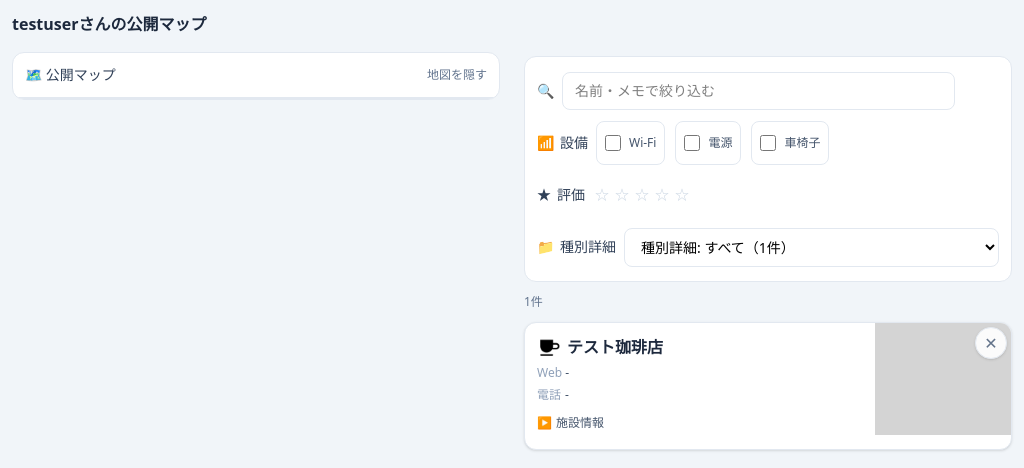
it: ピースG2: フィルタ・メモ帳追加 › 登録済みの施設は「メモ帳から削除」表示で、タップで削除される（検索結果と同じ扱い）
This screenshot has width=1024, height=468.
// タップするとごみ箱へ移動し、ボタンが「メモ帳に追加」に戻る
Click the button named "メモ帳から削除": (991, 343) [975,327,1007,359]
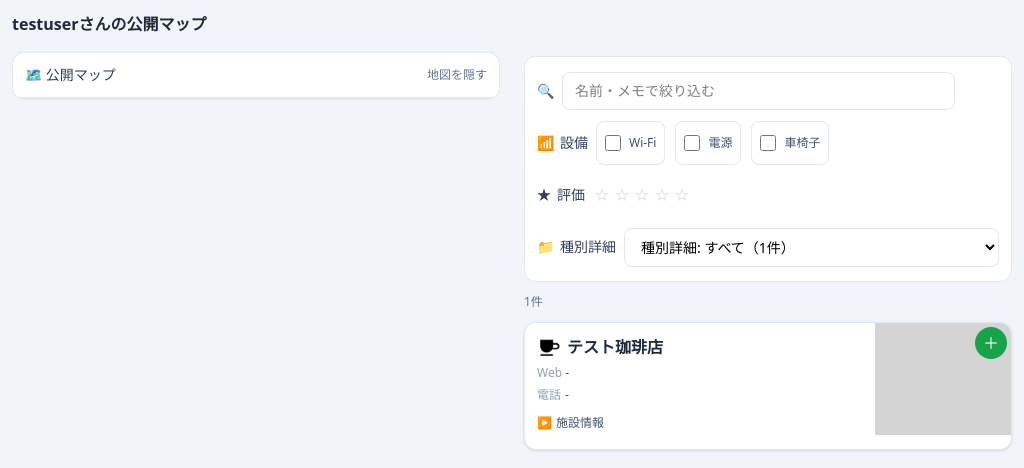
Expected: the button named "メモ帳に追加" is shown, [975,327,1007,359]
